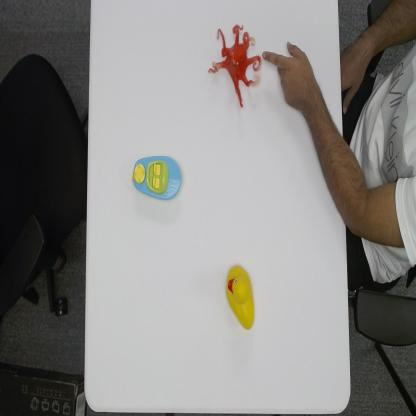Arm: (303, 113, 380, 250)
Boat: (130, 154, 182, 202)
Duck: (224, 262, 256, 332)
Hand: (262, 32, 317, 111)
Octopus: (208, 22, 262, 110)
